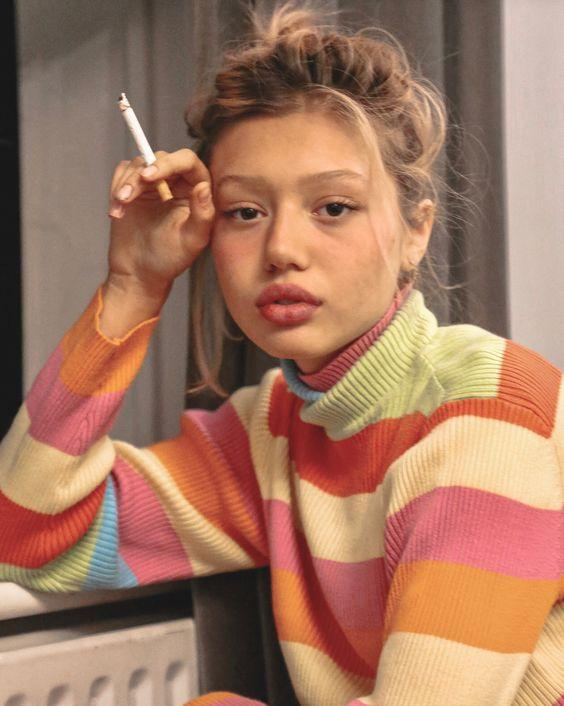cigarette: (117, 93, 174, 203)
